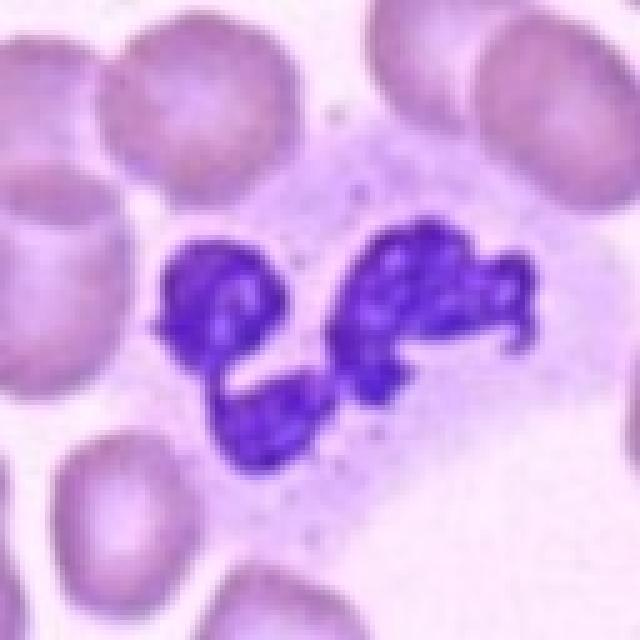neutro: (117, 122, 574, 554)
